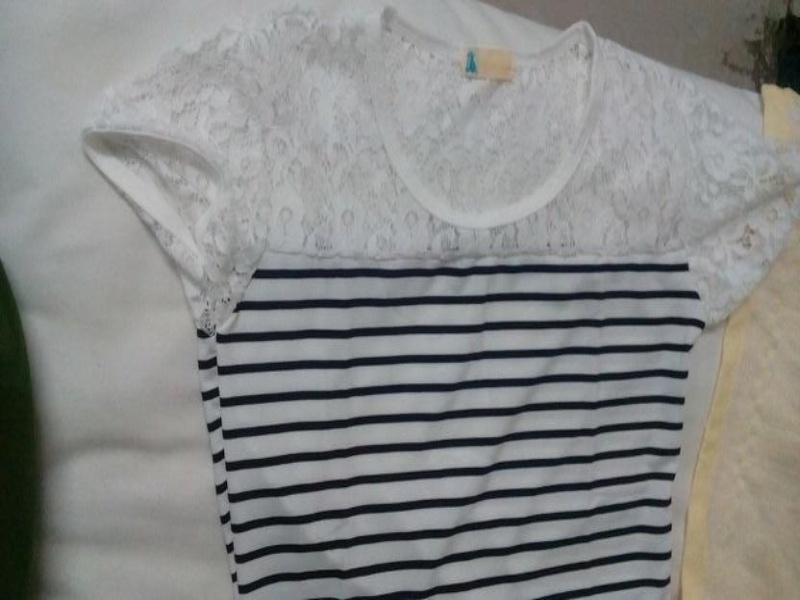short_sleeved_shirt: (77, 3, 799, 599)
